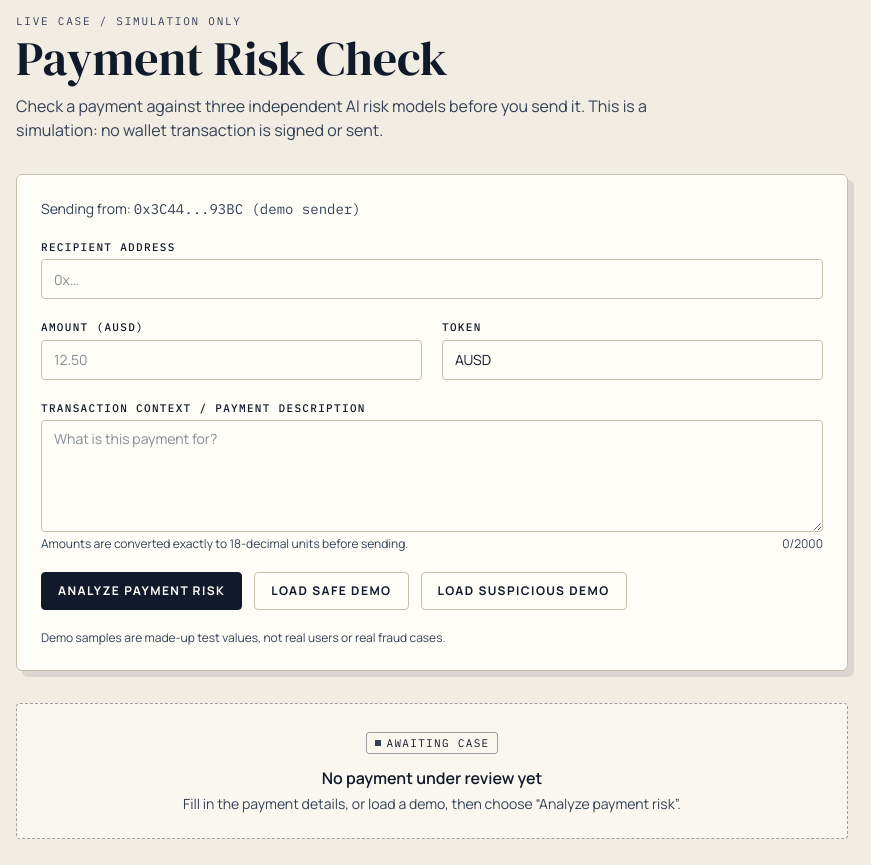
Test: Payment Risk Check page › GO result: sends the exact wei amount to the proxy and enables the demo continue button
The width and height of the screenshot is (871, 865).
Step 1. Click the button "Load safe demo" → {"x": 331, "y": 591}, box [254,572,409,610]
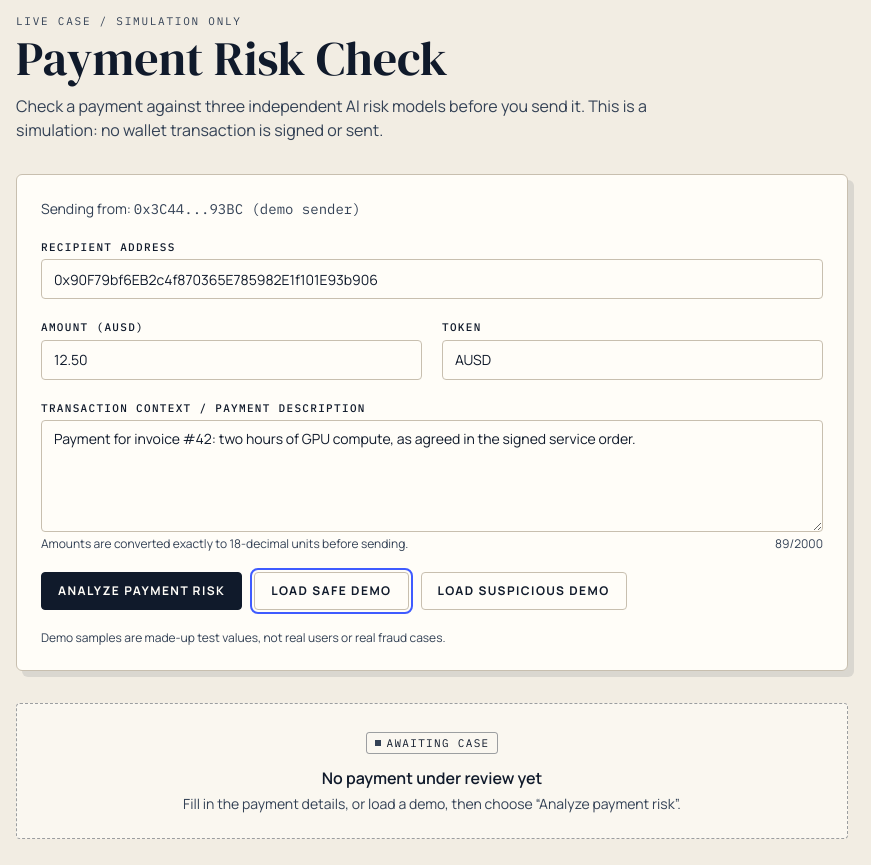
Step 2. Click the button "Analyze payment risk" → {"x": 142, "y": 591}, box [41,572,242,610]
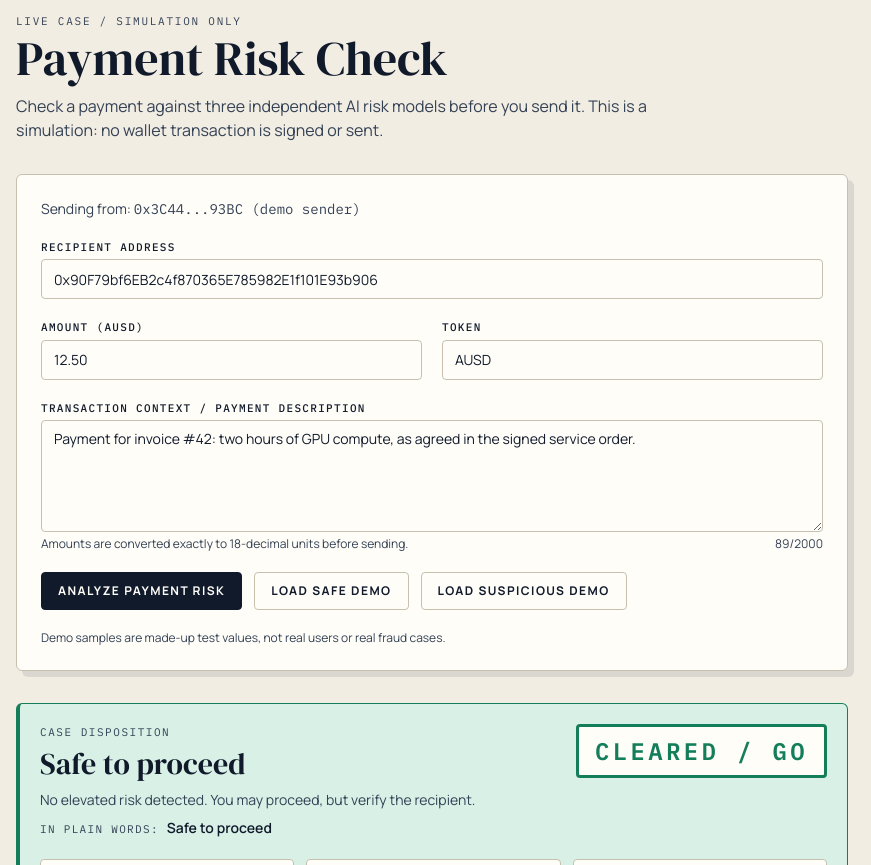
Check: the heading with test id "verdict-headline" reads "Safe to proceed", box [40,742,245,784]
